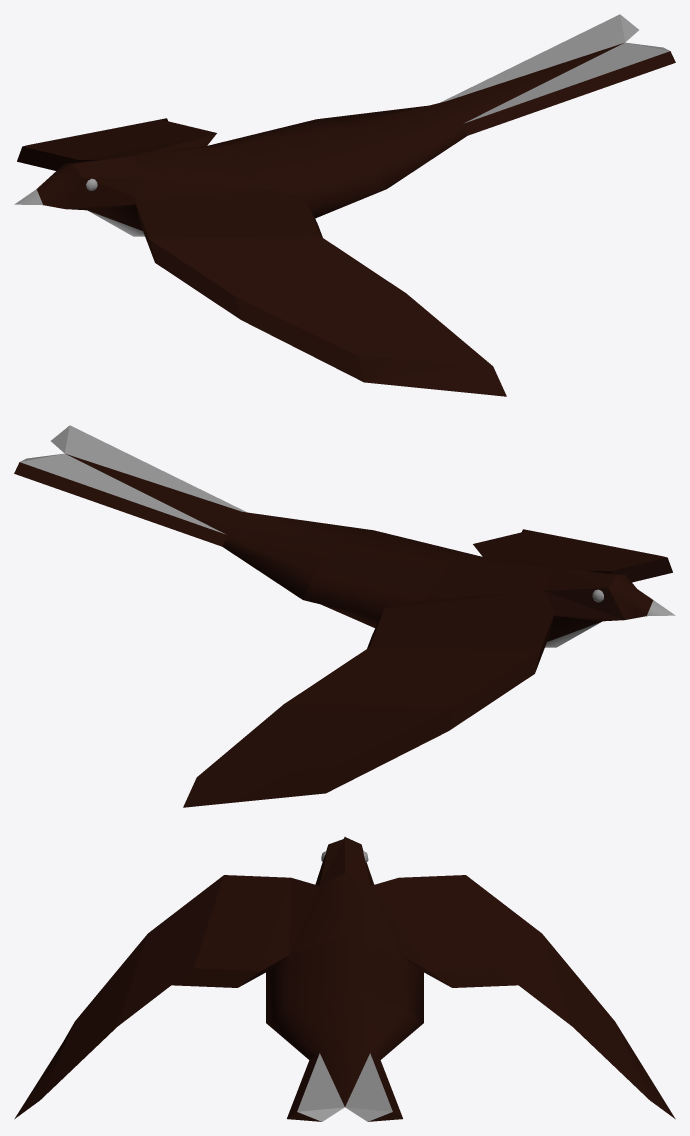
File: bird.FBX
3 renders of one model, top to bottom at view 1: azimuth 30°, elevation 25°; view 2: azimuth 150°, elevation 25°; view 3: azimuth 270°, elevation 25°, orthographic. The views are drawn at different scales.
Parts seen in each view (by area): view 1: OilTank001; view 2: OilTank001; view 3: OilTank001.
Part boxes in pixels (left/top/right/bottom): OilTank001: left=14, top=14, right=675, bottom=396; OilTank001: left=14, top=425, right=675, bottom=807; OilTank001: left=14, top=836, right=675, bottom=1121.
Bounding box in the file's own units: 497373 × 470433 × 125804.
